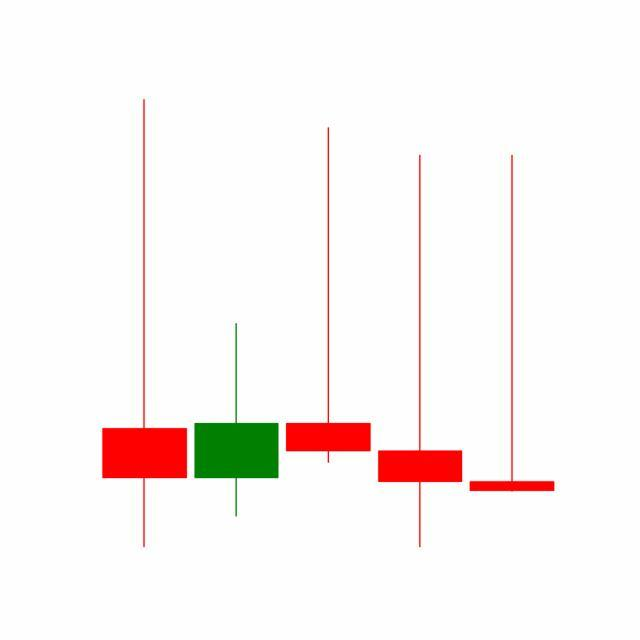Spinning Top: (374, 151, 468, 552)
